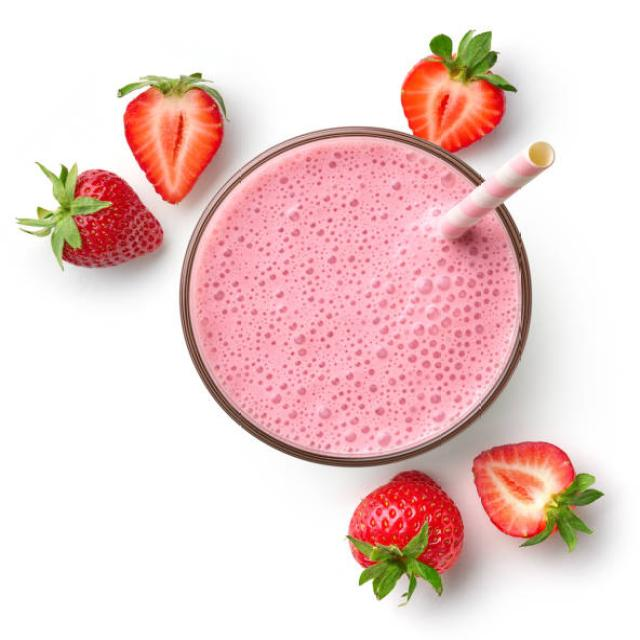Healthy Fruit: (347, 468, 465, 576), (59, 168, 164, 268)
